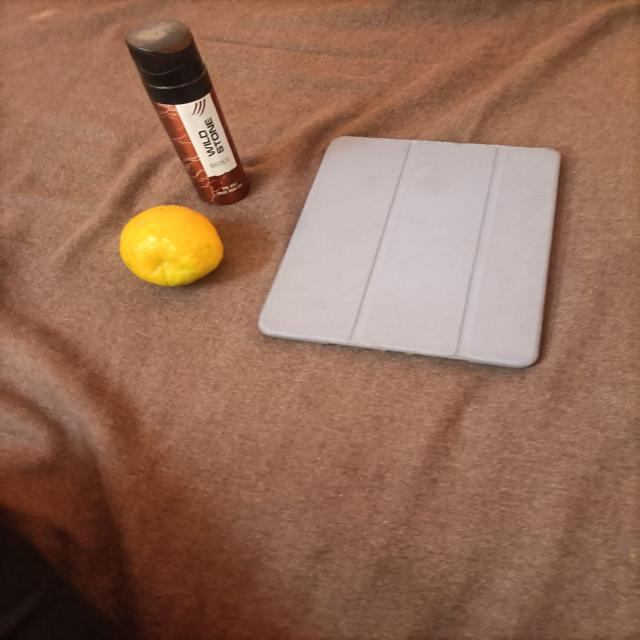orange: (100, 198, 243, 297)
spray: (95, 13, 268, 219)
tablet: (248, 93, 578, 385)
